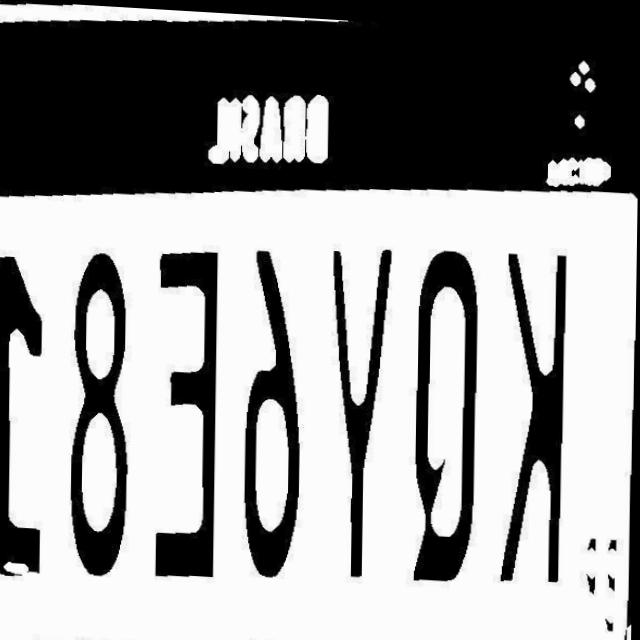1: (0, 251, 53, 591)
6: (237, 235, 314, 582)
8: (70, 247, 134, 582)
e: (153, 232, 225, 581)
k: (495, 237, 580, 585)
q: (411, 235, 487, 583)
y: (324, 234, 400, 579)
